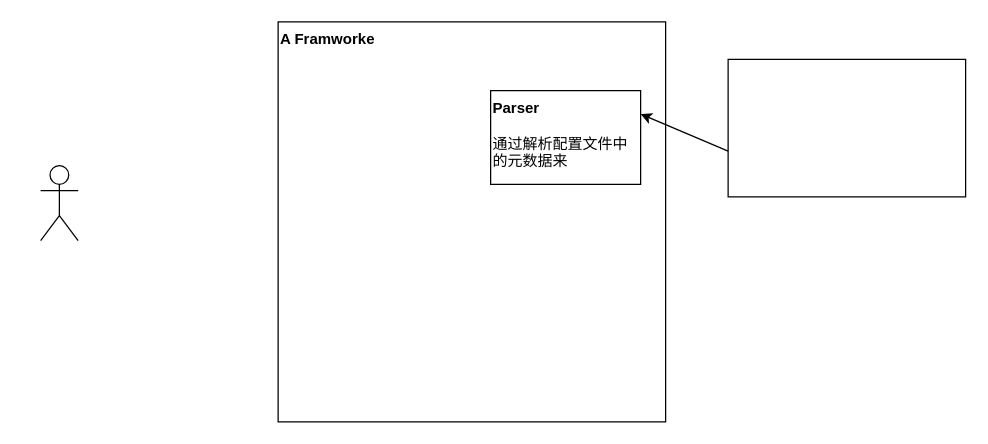
This 988x444 diagram has some shape labels left out. The centre of each missing label's shape, as x and y in pixels:
"ActorName" goes at (58,202).
"Medata 元数据指的是描述数据的数据，列如在java中可以是 .xml、.properties、.txt等配置文件，注解，java code。" goes at (846,127).
